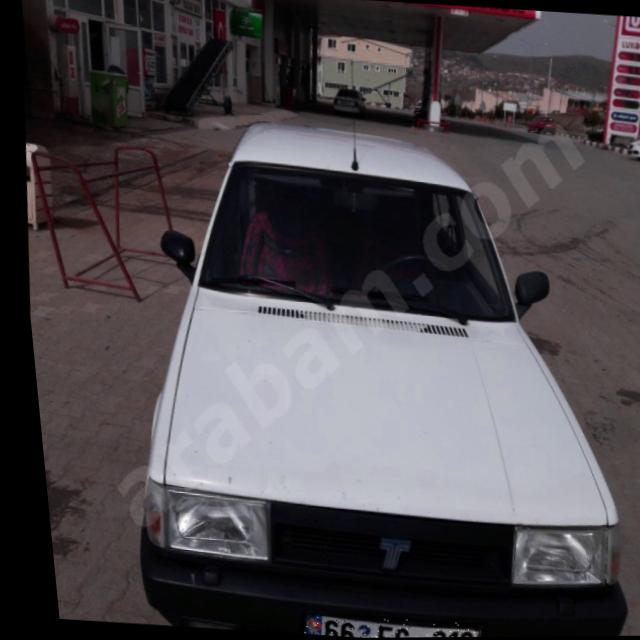license_plate: (289, 611, 467, 639)
